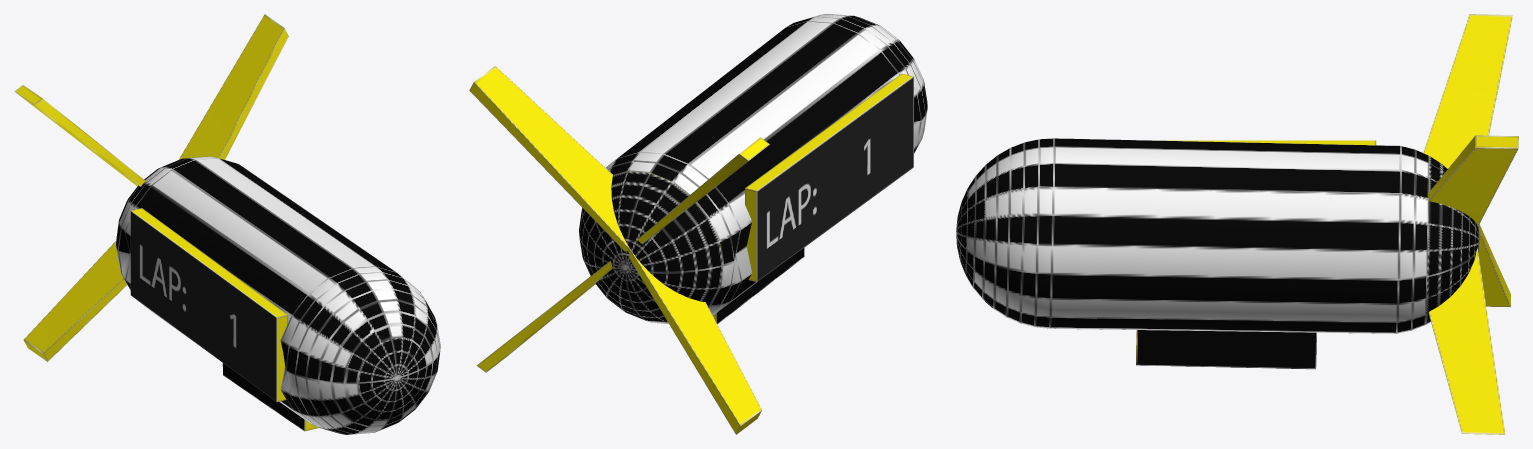
Rendered from blimp.obj.
The picture shows the model from 3 angles, left to right: view 1: azimuth 30°, elevation 25°; view 2: azimuth 150°, elevation 25°; view 3: azimuth 270°, elevation 25°; orthographic projection. The views are drawn at different scales.
Parts seen in each view (by area): view 1: pCube8; view 2: pCube8; view 3: pCube8.
Boxes of the visible parts, x1=… form: pCube8: x1=14, y1=14, x2=440, y2=434; pCube8: x1=469, y1=14, x2=927, y2=434; pCube8: x1=956, y1=14, x2=1518, y2=434.
Size of the model in its own units: 3.08 by 3.13 by 5.29.
